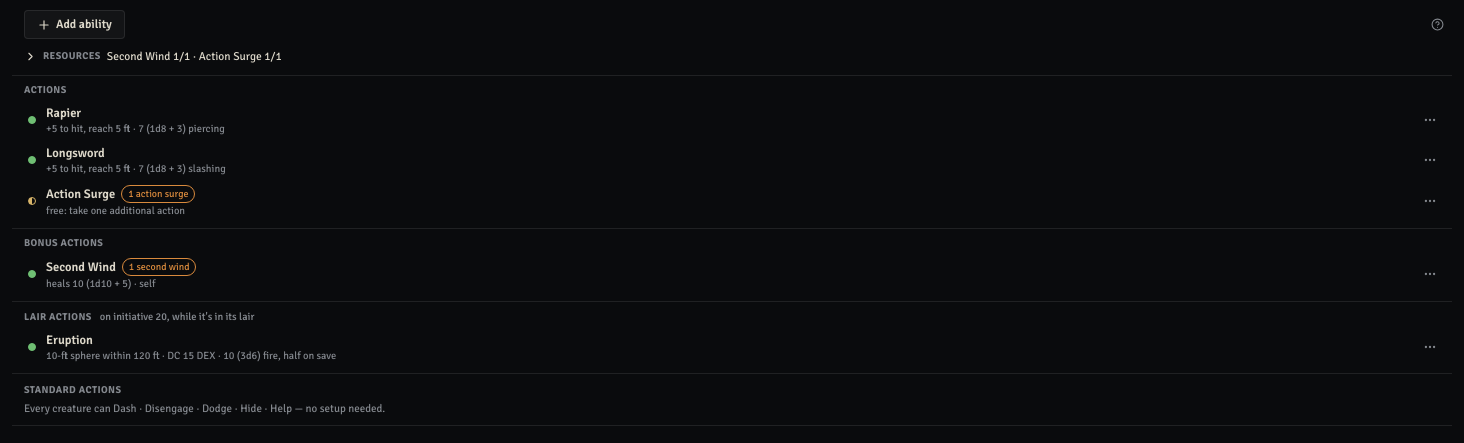
Test case: ActionsTab › opens what used to need the classic forms in the ability editor, which has no classic form to fall back on
Step 1. Click the button with aria-label "Edit Eruption" → (69, 340), box [42, 327, 1410, 367]
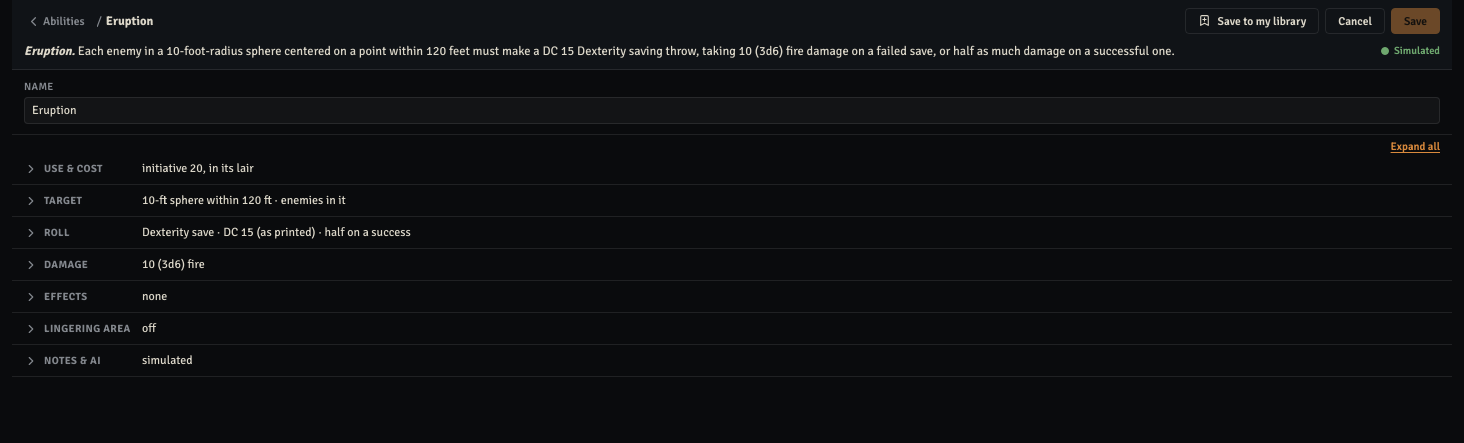
Expected: the element named "Edit Eruption" is shown
